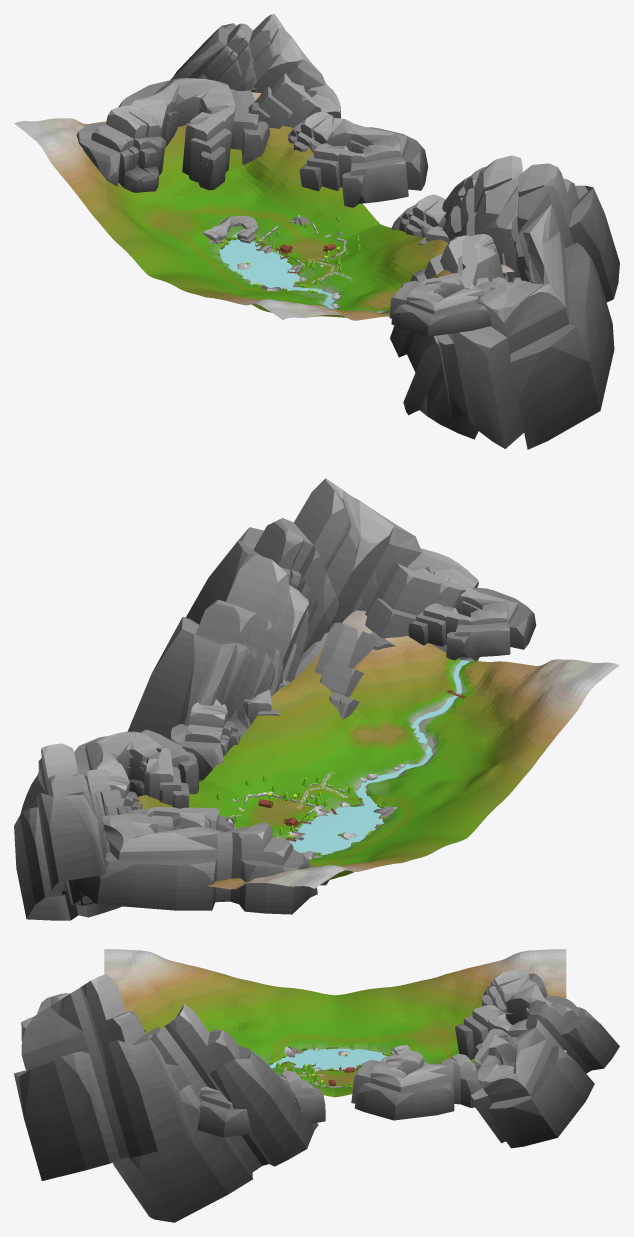
File: Tarrain.fbx
3 views of the same model, one above another, from view 1: azimuth 30°, elevation 25°; view 2: azimuth 150°, elevation 25°; view 3: azimuth 270°, elevation 25° (orthographic). The views are drawn at different scales.
Parts seen in each view (by area): view 1: Tarrain, Montain4, Montain6, Montain, Montain3, Montain2.001, Montain5, River, Montain2, stone; view 2: Tarrain, Montain4, Montain, Montain6, Montain3, Montain2.001, Montain5, River, Montain2; view 3: Tarrain, Montain4, Montain, Montain3, Montain2.001, Montain6, Montain2, River.
Boxes of the visible parts, x1=… form: Tarrain: x1=14, y1=92, x2=514, y2=320; Montain4: x1=437, y1=163, x2=619, y2=449; Montain6: x1=76, y1=78, x2=269, y2=192; Montain: x1=390, y1=155, x2=530, y2=439; Montain3: x1=170, y1=14, x2=340, y2=128; Montain2.001: x1=287, y1=111, x2=428, y2=207; Montain5: x1=389, y1=273, x2=513, y2=336; River: x1=219, y1=232, x2=387, y2=314; Montain2: x1=391, y1=194, x2=459, y2=244; stone: x1=202, y1=216, x2=257, y2=245; Tarrain: x1=135, y1=610, x2=619, y2=889; Montain4: x1=186, y1=478, x2=479, y2=661; Montain: x1=127, y1=553, x2=377, y2=781; Montain6: x1=71, y1=807, x2=317, y2=914; Montain3: x1=14, y1=743, x2=132, y2=920; Montain2.001: x1=74, y1=730, x2=198, y2=809; Montain5: x1=408, y1=573, x2=536, y2=660; River: x1=288, y1=660, x2=470, y2=855; Montain2: x1=169, y1=679, x2=289, y2=780; Tarrain: x1=104, y1=949, x2=566, y2=1097; Montain4: x1=14, y1=974, x2=193, y2=1180; Montain: x1=113, y1=1004, x2=318, y2=1222; Montain3: x1=470, y1=1000, x2=619, y2=1148; Montain2.001: x1=351, y1=1051, x2=482, y2=1120; Montain6: x1=455, y1=969, x2=576, y2=1059; Montain2: x1=197, y1=1070, x2=325, y2=1137; River: x1=269, y1=1048, x2=387, y2=1070.
Bounding box in the file's own units: 24812 × 18674 × 41143.
